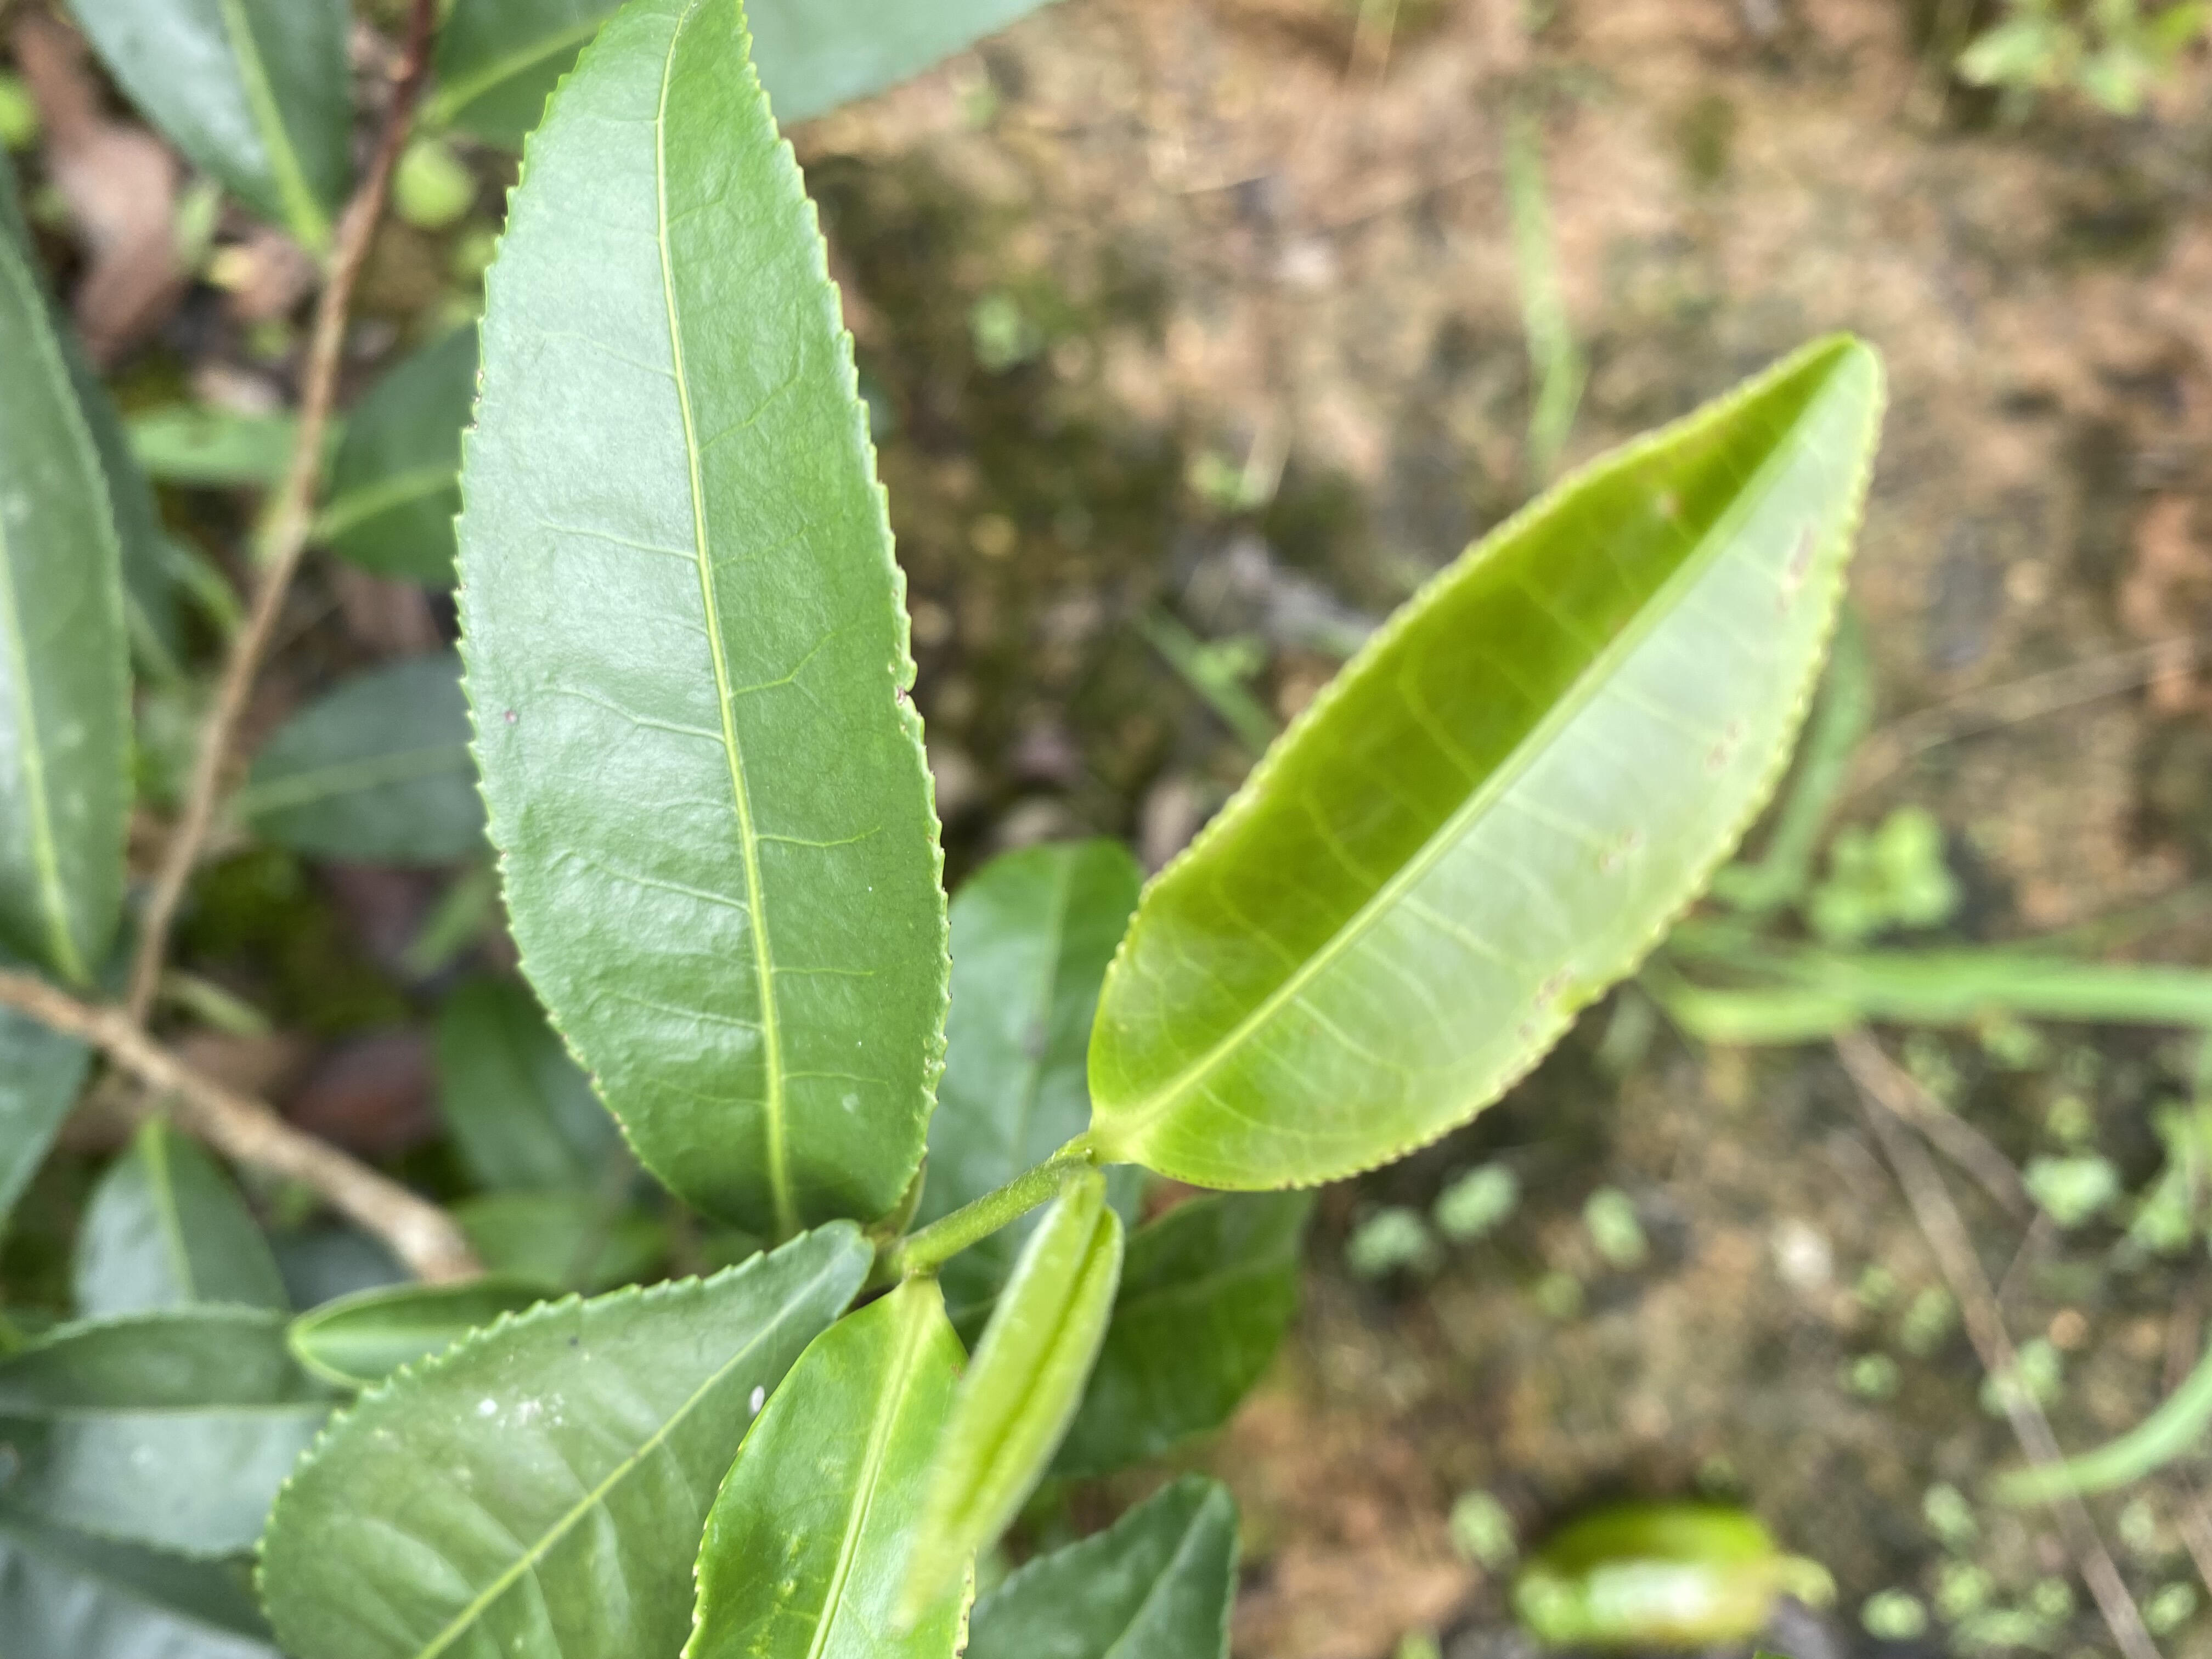healthy: (448, 2, 954, 1234), (679, 1283, 970, 1657)
tanju_low: (1087, 331, 1888, 1194), (249, 1216, 812, 1656)
